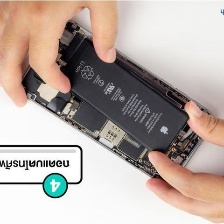phone: (14, 14, 218, 188)
